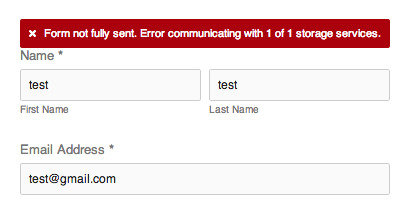error_message: (44, 27, 380, 40)
